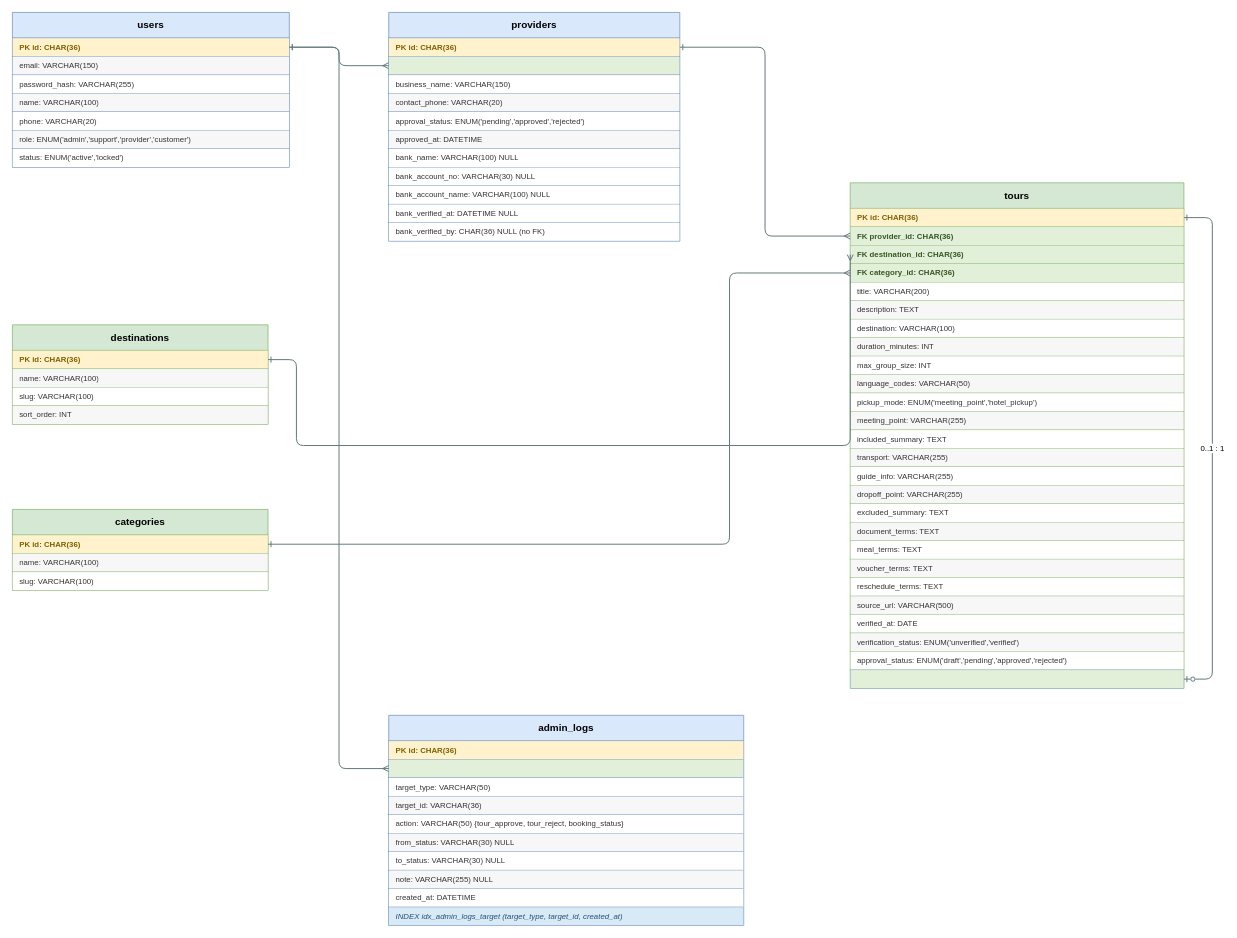
This 1237x938 diagram has some shape labels left out. The centre of each missing label's shape, as x and y in pixels:
"FK actor_user_id: CHAR(36)" belongs at (x=566, y=768).
"FK UNIQUE revision_of: CHAR(36) NULL" belongs at (x=1017, y=678).
"FK user_id: CHAR(36)" belongs at (x=534, y=65).
